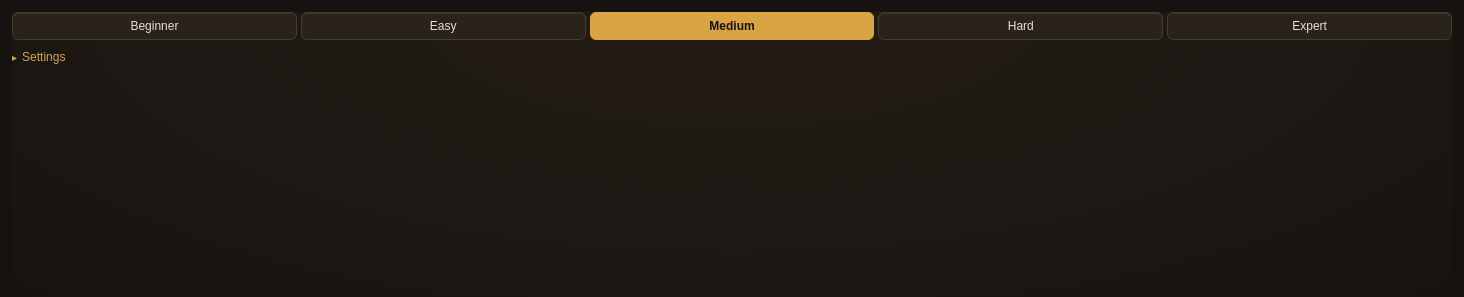
Test: DifficultyControl › shows Custom and checks no preset when the raw slider moves off one
Click the button "▸ Settings": (39, 57) [12,50,65,64]
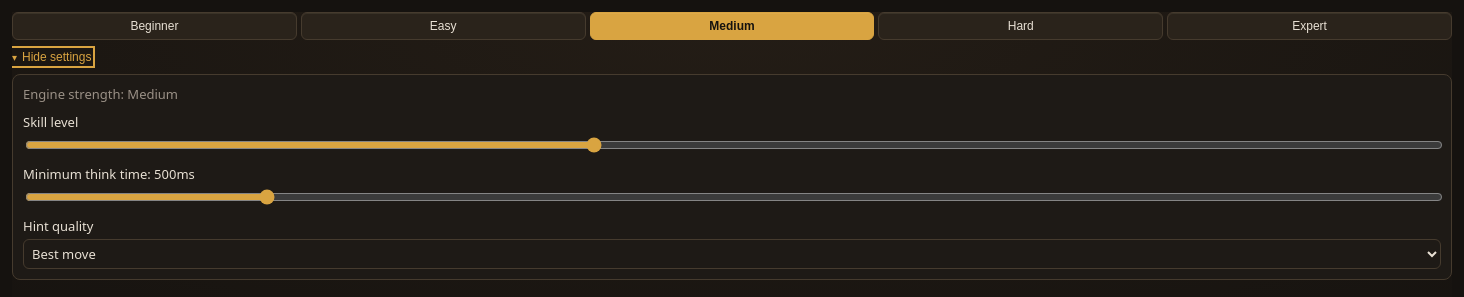
Set the slider labelled "Skill level" to "10": (734, 145) [25,137,1443,153]
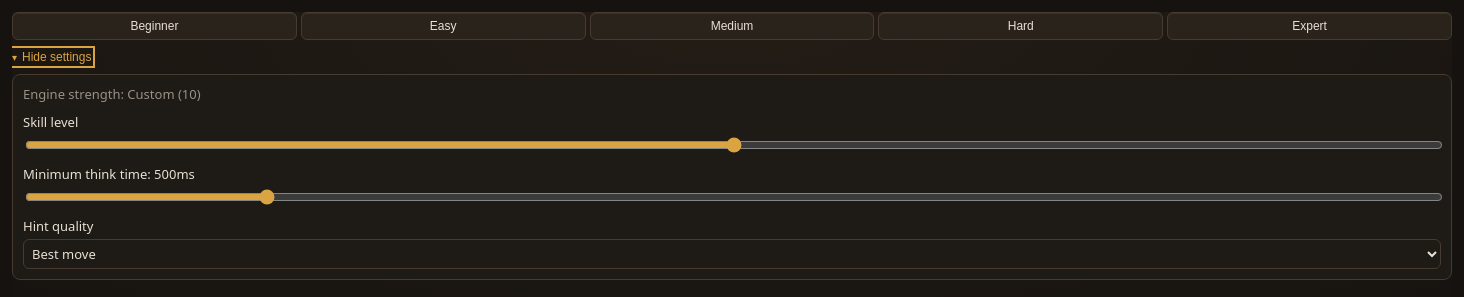
Expected: the text "Engine strength: Custom (10)" is shown, [23,85,201,103]
